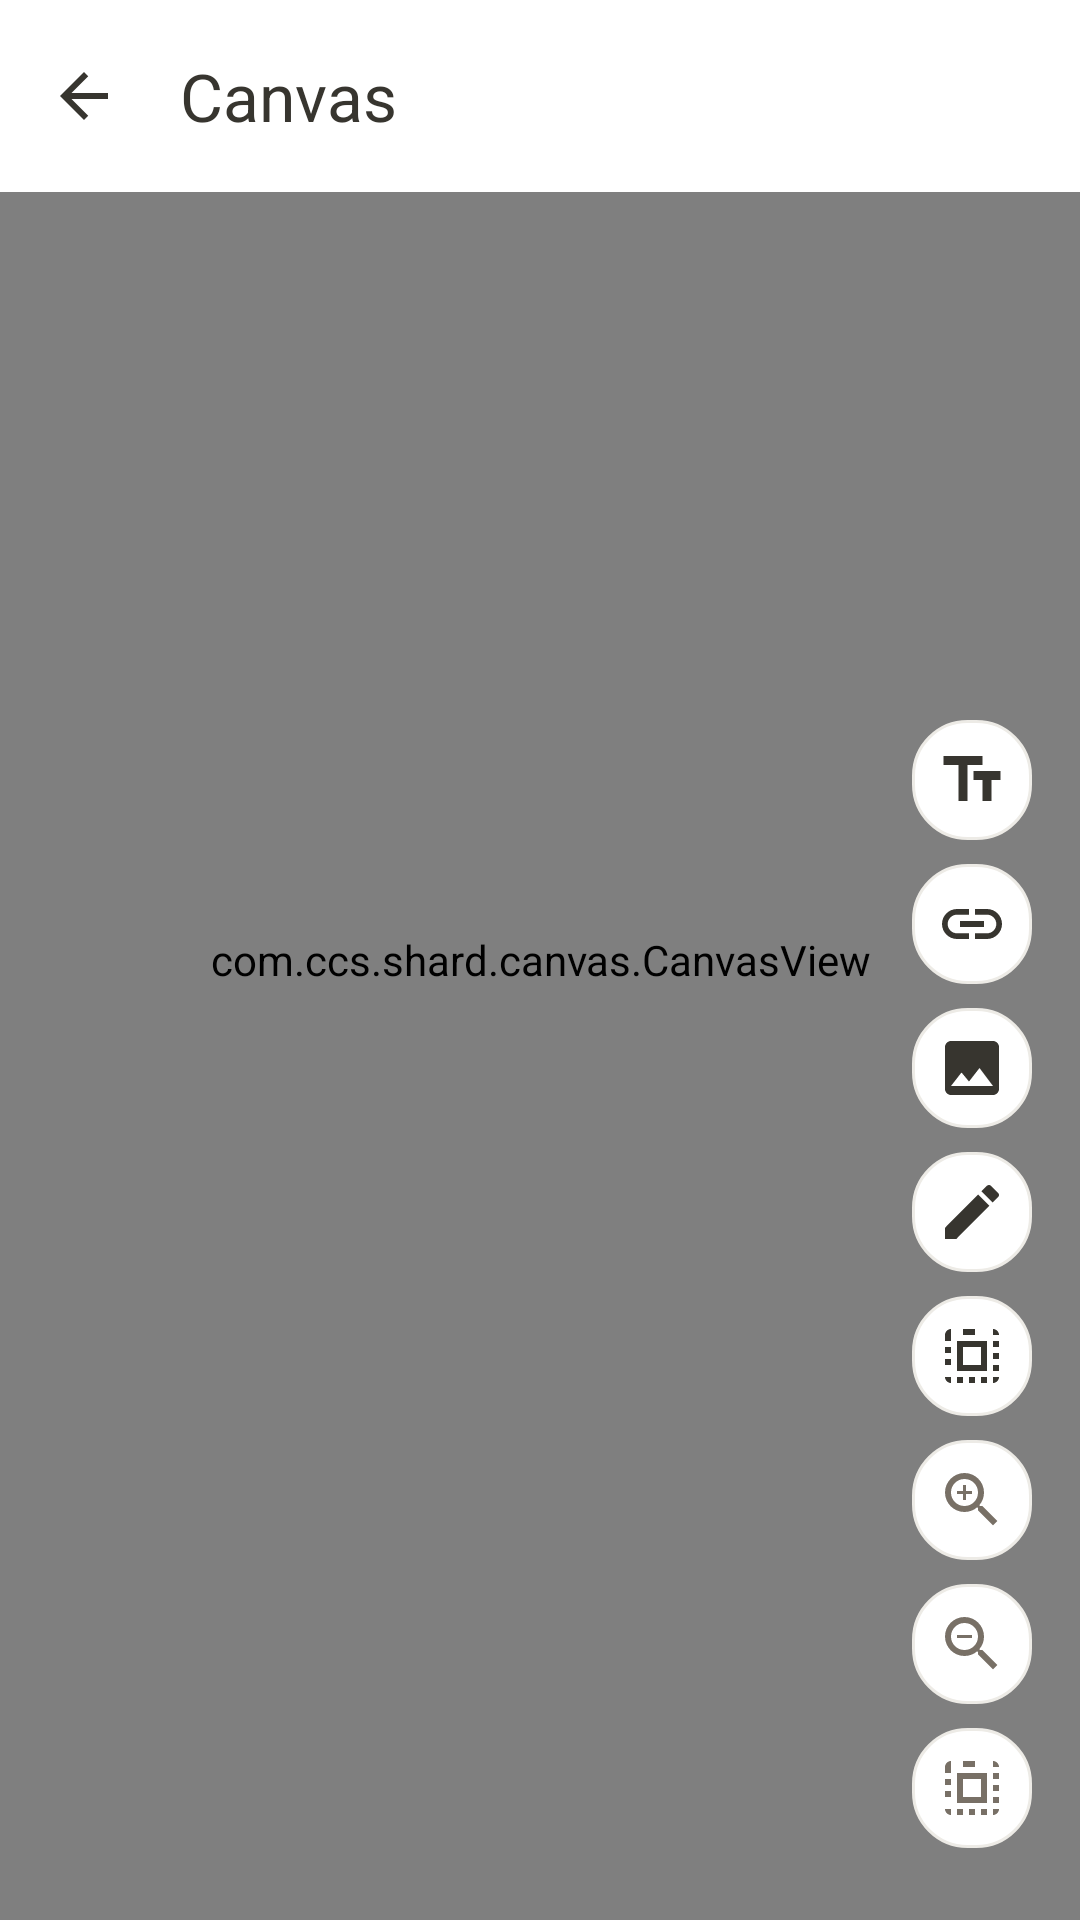

Named icons in this screenshot (1080px×1920px) and their bounding boxes, (x1, y1, x2, y2):
Add image: (912, 1008, 1032, 1128)
Add text card: (912, 720, 1032, 840)
Draw: (912, 1152, 1032, 1272)
Select multiple cards: (912, 1296, 1032, 1416)
Zoom in: (912, 1440, 1032, 1560)
Zoom out: (912, 1584, 1032, 1704)
